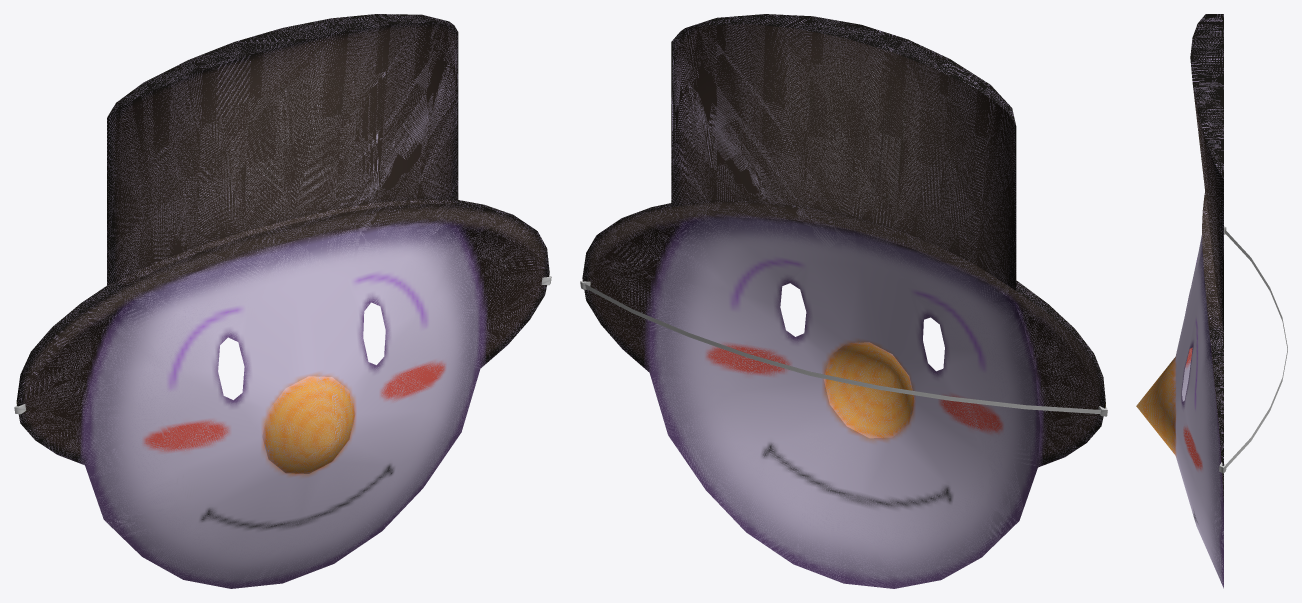
File: jsf_Mask_16.fbx
3 renders of one model, left to right at view 1: azimuth 30°, elevation 25°; view 2: azimuth 150°, elevation 25°; view 3: azimuth 270°, elevation 25°, orthographic. The views are drawn at different scales.
Visible parts, largest first — view 1: Mask_16; view 2: Mask_16, ElasticBand_16; view 3: Mask_16, ElasticBand_16.
Part boxes in pixels (left/top/right/bottom): Mask_16: left=14, top=14, right=551, bottom=588; Mask_16: left=580, top=14, right=1107, bottom=588; ElasticBand_16: left=585, top=284, right=1100, bottom=414; Mask_16: left=1136, top=14, right=1226, bottom=588; ElasticBand_16: left=1225, top=229, right=1287, bottom=467.
Bounding box in the file's own units: 25.36 × 25.05 × 6.72.
